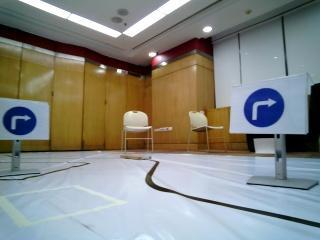right: (232, 85, 303, 130), (2, 97, 48, 140)
